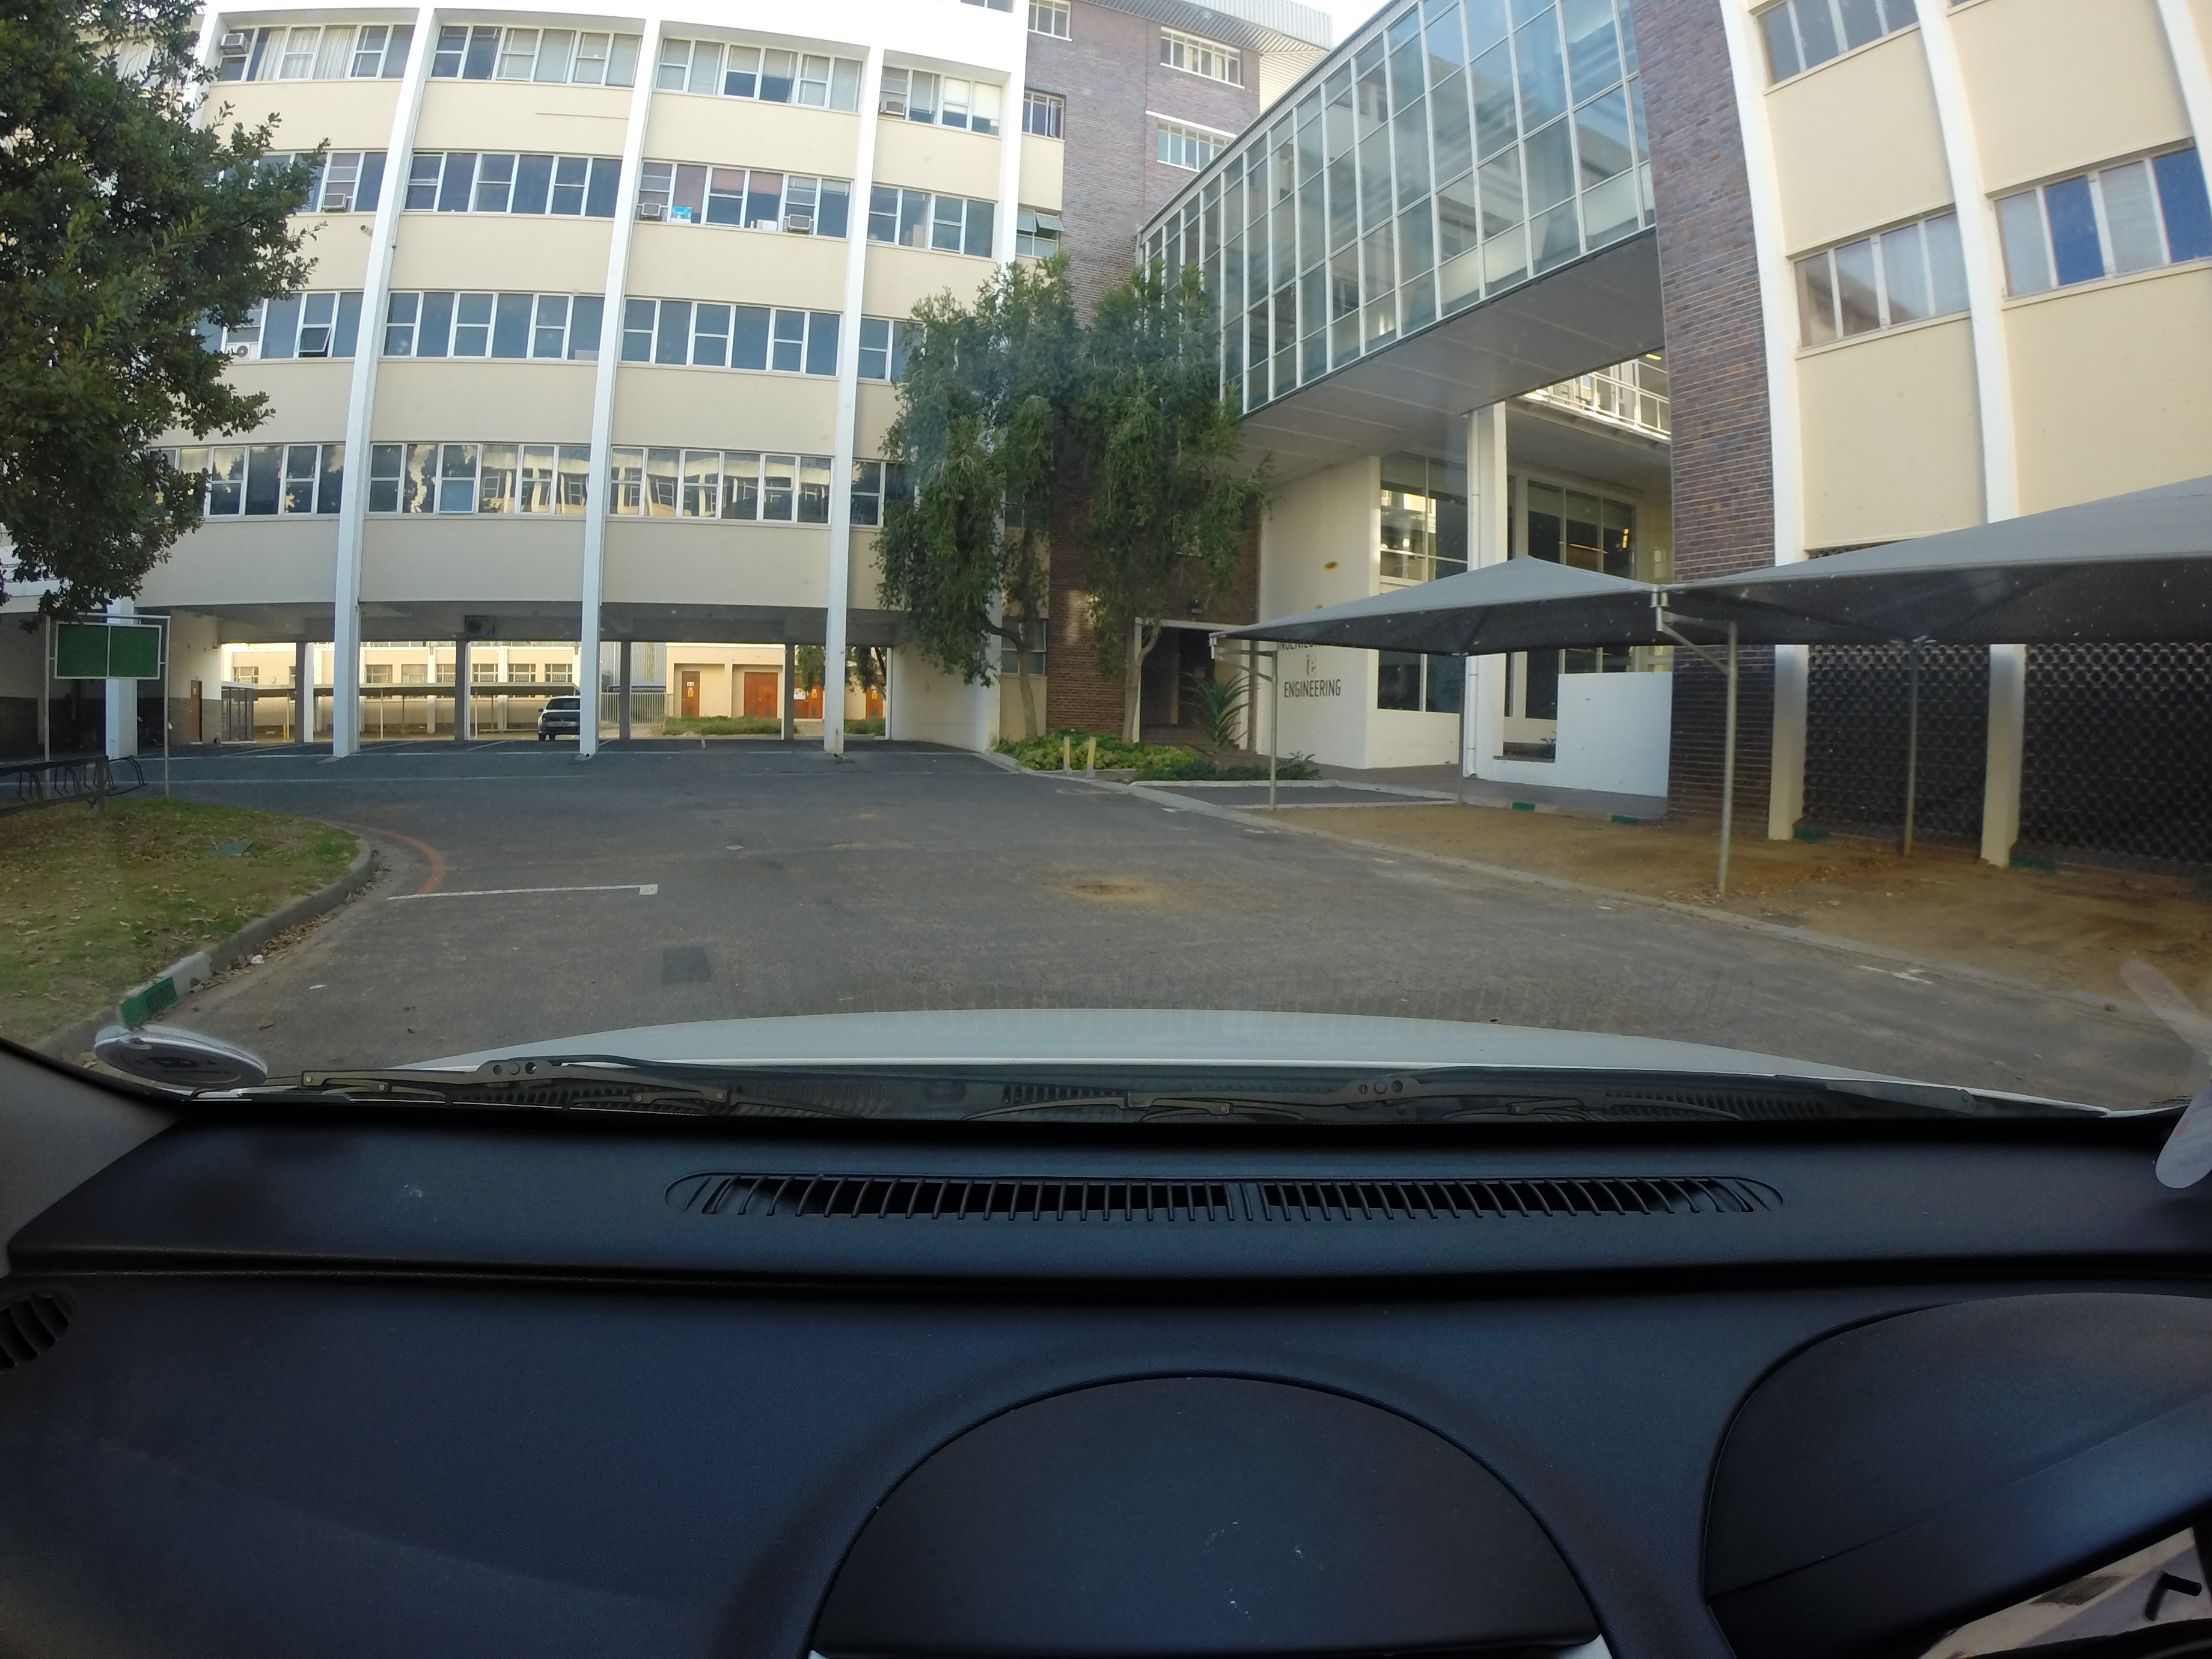pothole: (1064, 882, 1174, 903)
